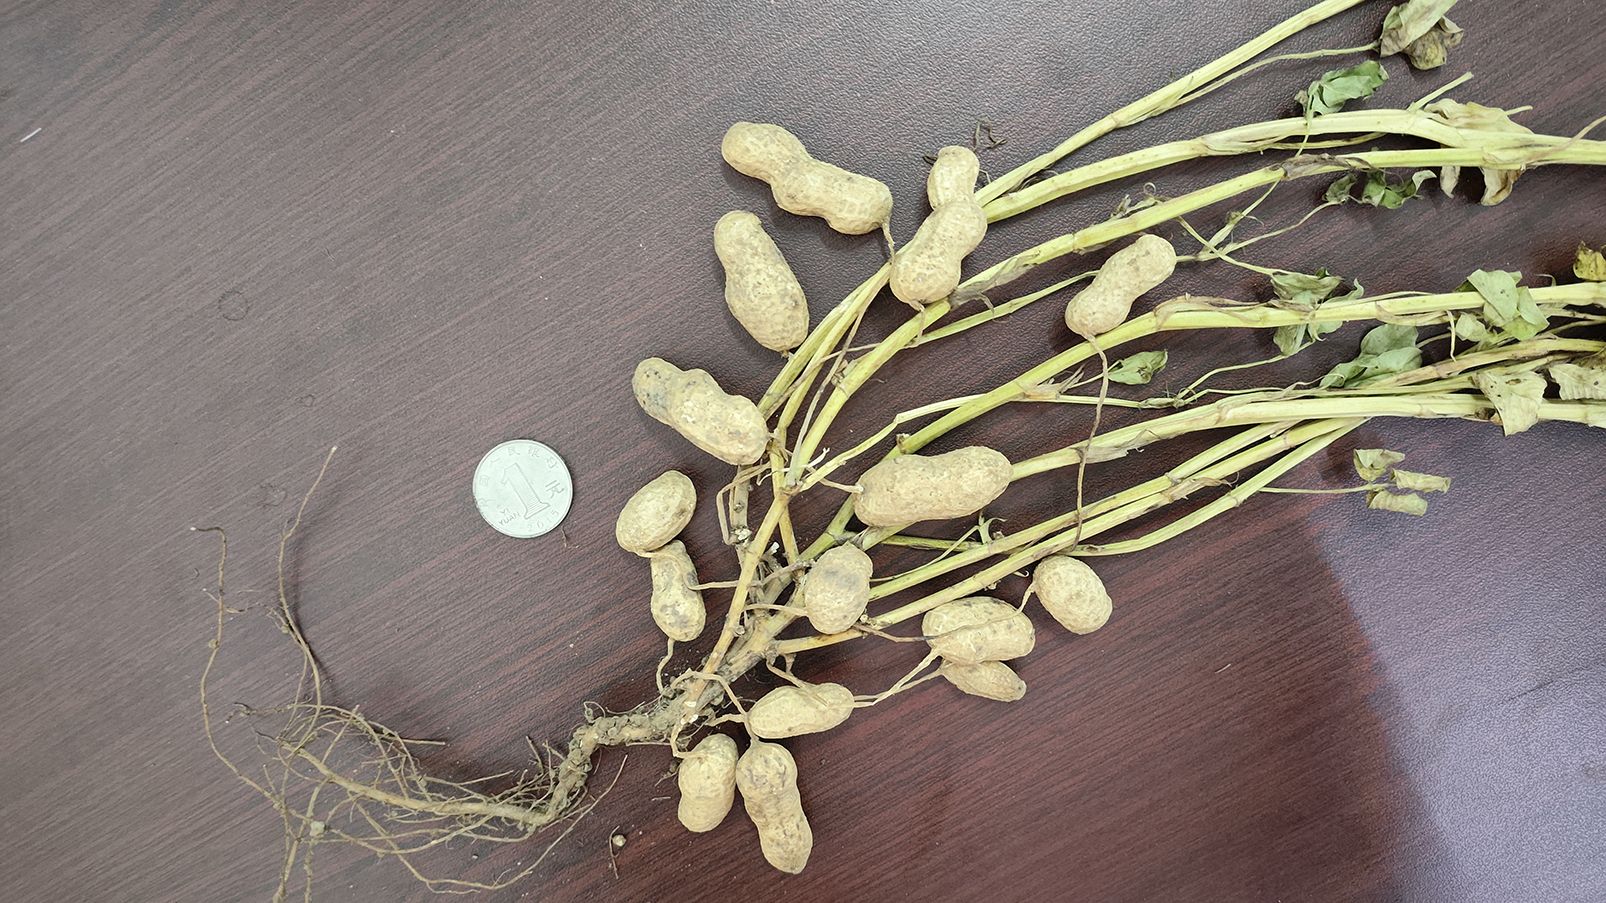h: (720, 121, 895, 235), (890, 146, 991, 304), (630, 357, 769, 466), (714, 209, 809, 351), (852, 445, 1011, 527), (1064, 232, 1180, 337), (735, 740, 814, 872), (920, 598, 1038, 659), (613, 472, 700, 552), (802, 542, 872, 635), (1034, 555, 1111, 634), (676, 733, 737, 834), (745, 682, 854, 737), (649, 542, 707, 639), (938, 659, 1027, 702)
